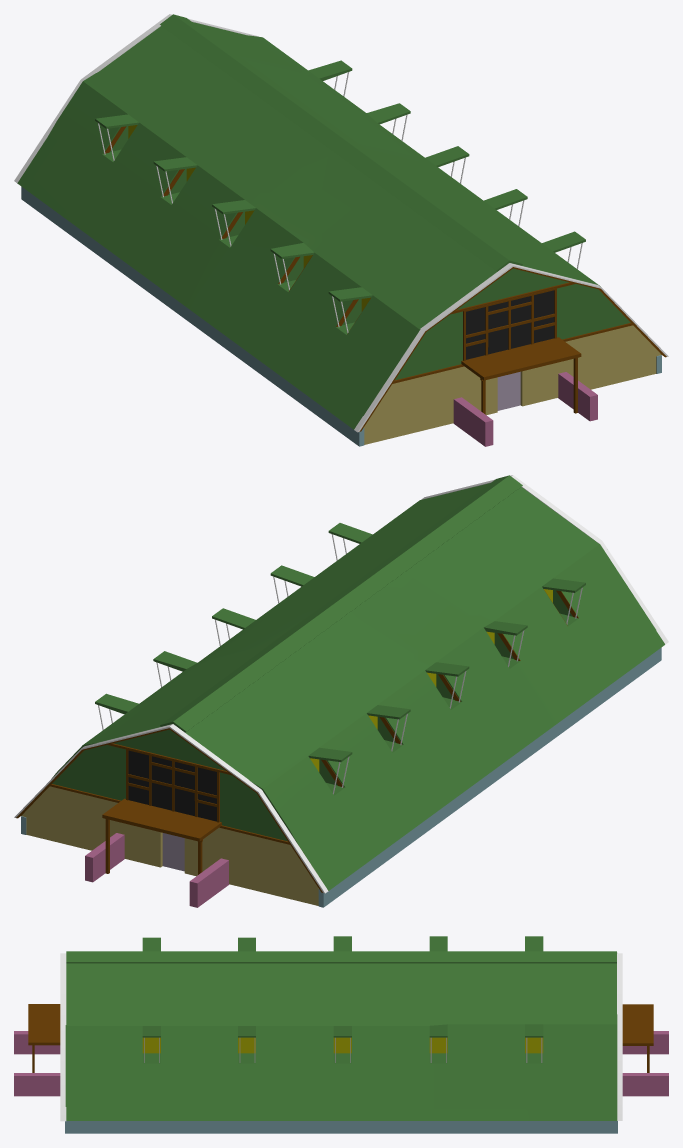
File: Warehouse_middle_middle.fbx
3 renders of one model, top to bottom at view 1: azimuth 30°, elevation 25°; view 2: azimuth 150°, elevation 25°; view 3: azimuth 270°, elevation 25°, orthographic. The views are drawn at different scales.
Visible parts, largest first — view 1: pCube56; view 2: pCube56; view 3: pCube56.
Boxes of the visible parts, left/top/right/bottom form: pCube56: left=14, top=14, right=668, bottom=446; pCube56: left=14, top=475, right=668, bottom=907; pCube56: left=14, top=936, right=668, bottom=1133.
Size of the model in its own units: 801 by 367 by 1781.
